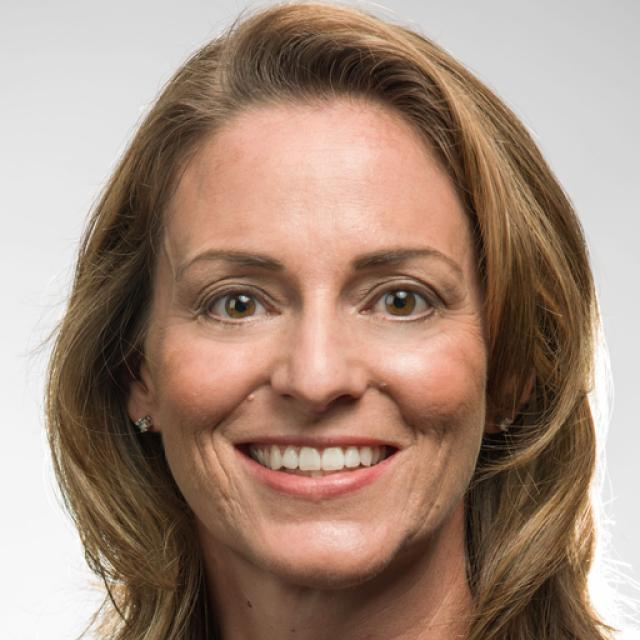Acne: (240, 388, 259, 408), (376, 379, 393, 395)
